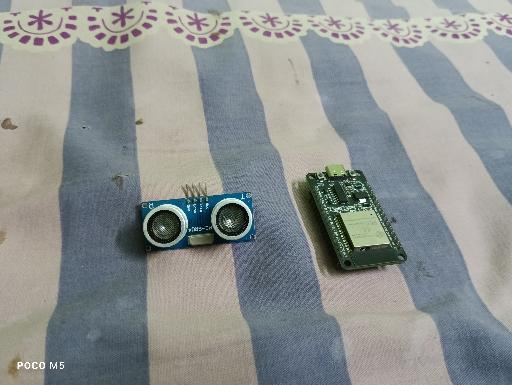Esp32: (306, 164, 408, 271)
sensor: (141, 181, 256, 253)
